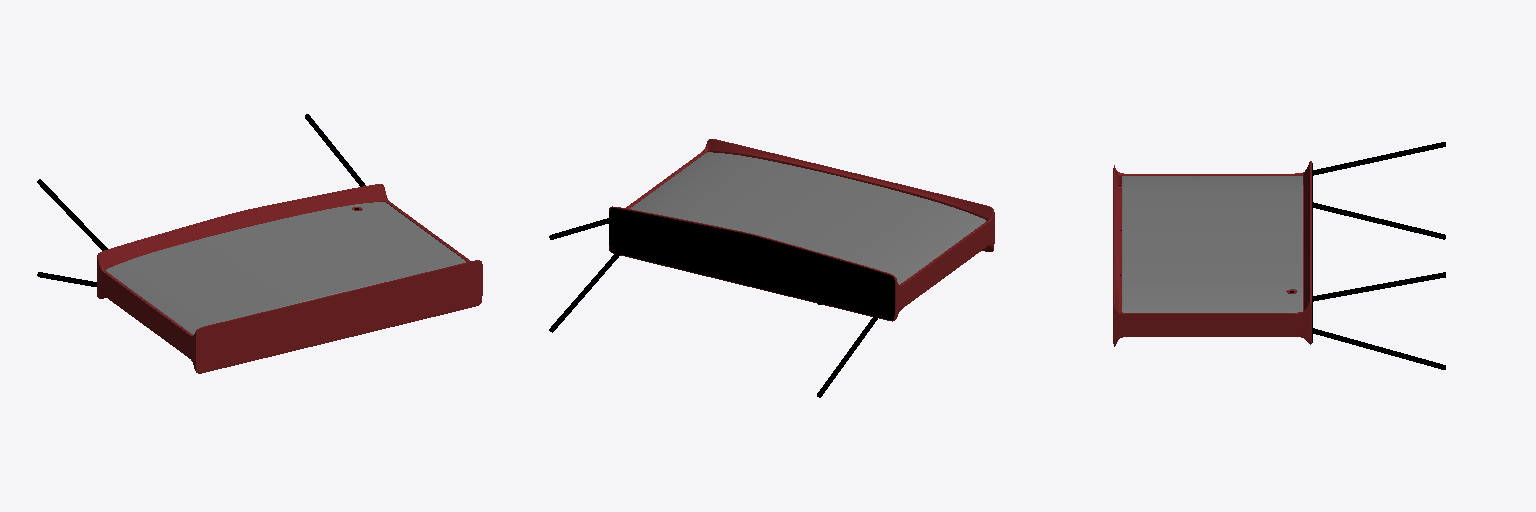
File: Samsung_Serif_TV_40_mat(2).obj
3 views of the same model, side by side, from view 1: azimuth 30°, elevation 25°; view 2: azimuth 150°, elevation 25°; view 3: azimuth 270°, elevation 25° (orthographic).
Visible parts, largest first — view 1: Samsung_Serif_TV_40_mat2; view 2: Samsung_Serif_TV_40_mat2; view 3: Samsung_Serif_TV_40_mat2.
Part boxes in pixels (bbox=[...]): Samsung_Serif_TV_40_mat2: bbox=[37, 114, 482, 373]; Samsung_Serif_TV_40_mat2: bbox=[549, 139, 994, 397]; Samsung_Serif_TV_40_mat2: bbox=[1113, 142, 1445, 369].
Size of the model in its own units: 93.09 by 30.22 by 93.38.